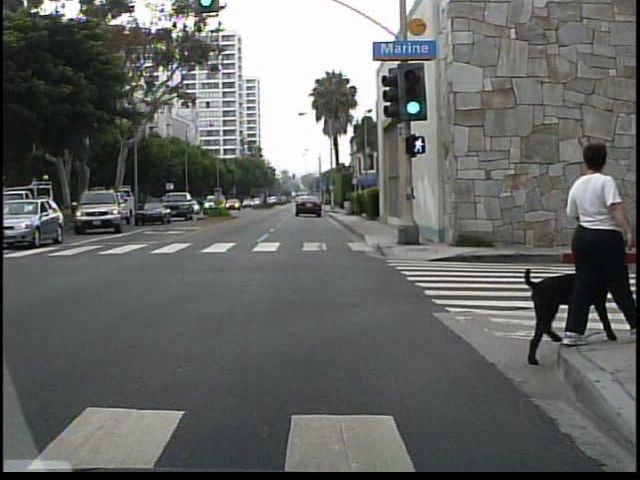person: (559, 140, 625, 343)
